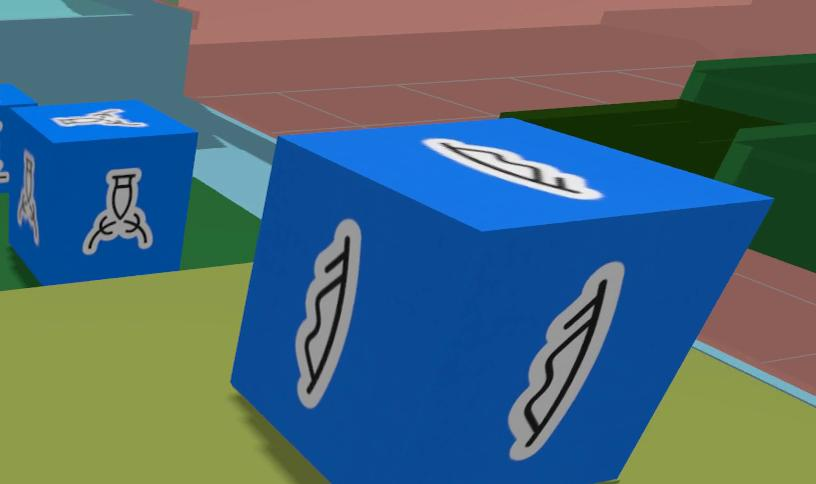KFS_REAL: (508, 262, 623, 460), (295, 219, 360, 408), (422, 137, 602, 200), (81, 168, 152, 255), (17, 150, 39, 244), (52, 108, 147, 126), (0, 160, 8, 182)
